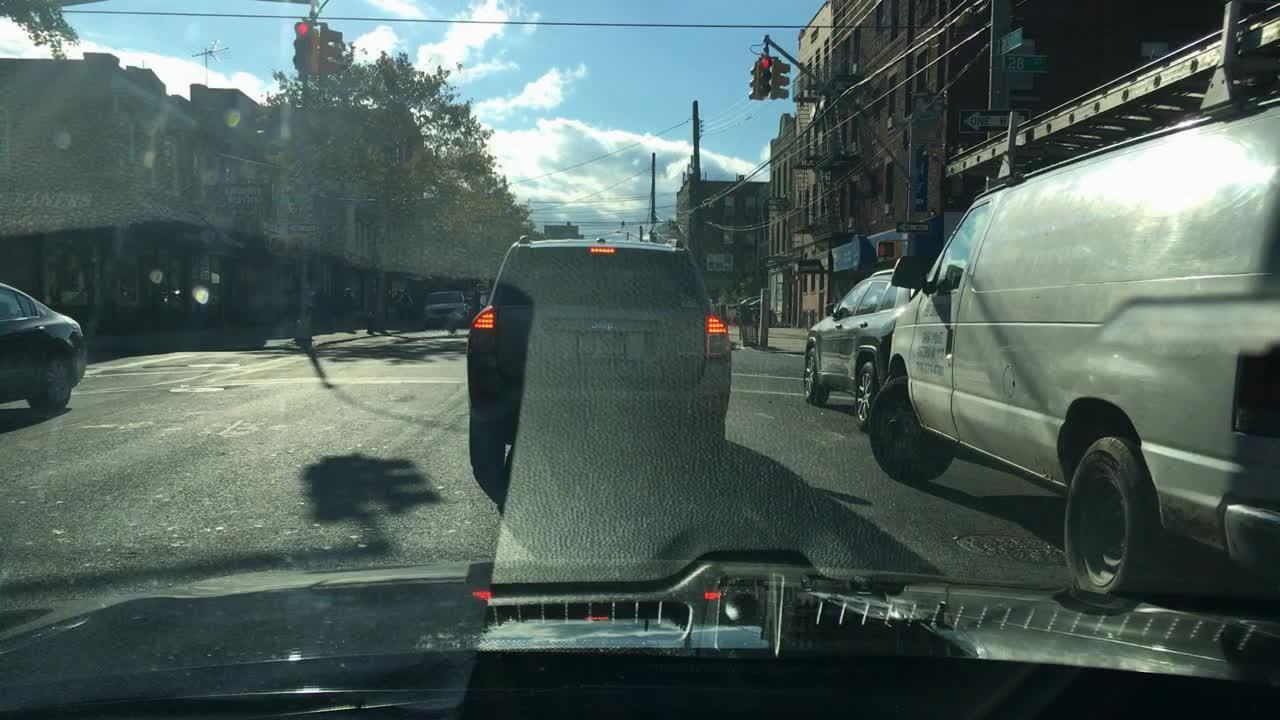jeep: (588, 318, 617, 334)
